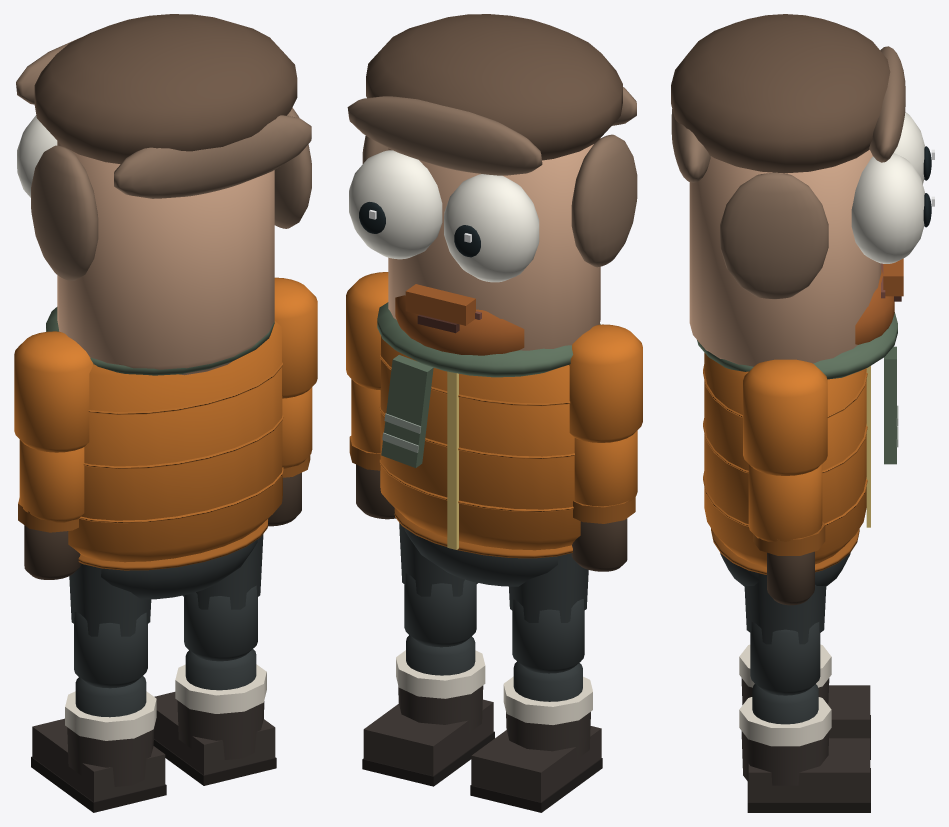
The model's file is spectator_winter_2.glb.
The picture shows the model from 3 angles, left to right: view 1: azimuth 30°, elevation 25°; view 2: azimuth 150°, elevation 25°; view 3: azimuth 270°, elevation 25°; orthographic projection. The views are drawn at different scales.
Visible parts, largest first — view 1: Head, RallySpectator, LeftShin, RightShin, LeftArm, LeftLeg, LeftForearm, RightLeg, RightArm, RightForearm; view 2: Head, RallySpectator, LeftShin, RightShin, LeftArm, LeftForearm, LeftLeg, RightLeg, RightArm, RightForearm; view 3: Head, RallySpectator, RightShin, RightArm, RightForearm, RightLeg, LeftShin.
Part boxes in pixels (x1,y1,x2,y2): Head: (16,14,311,375); RallySpectator: (46,307,283,599); LeftShin: (31,676,166,812); RightShin: (153,649,276,785); LeftArm: (14,331,93,452); LeftLeg: (69,564,151,688); LeftForearm: (18,439,84,579); RightLeg: (183,534,263,661); RightArm: (274,277,317,398); RightForearm: (268,387,312,526); Head: (347,14,637,355); RallySpectator: (377,302,600,586); LeftShin: (470,661,602,812); RightShin: (362,635,494,786); LeftArm: (569,324,642,442); LeftForearm: (571,430,637,571); LeftLeg: (509,553,588,673); RightLeg: (399,522,477,647); RightArm: (346,272,388,389); RightForearm: (349,379,395,519); Head: (671,14,934,366); RallySpectator: (697,312,898,586); RightShin: (739,684,870,812); RightArm: (743,359,827,475); RightForearm: (748,464,825,605); RightLeg: (744,573,826,695); LeftShin: (739,644,870,759).
Bounding box in the file's own units: 0.9 × 2.19 × 0.7157.
